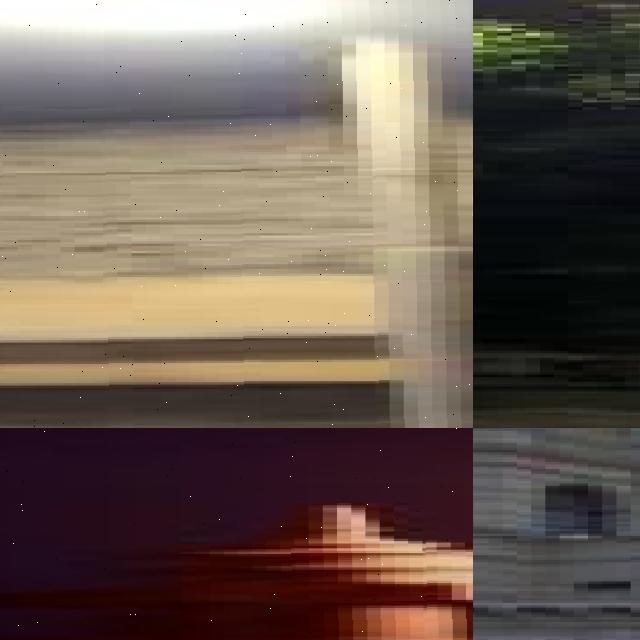street light: (0, 0, 473, 428), (0, 428, 473, 640)
